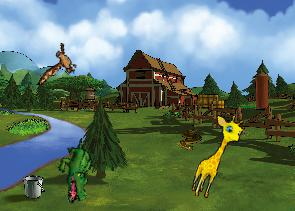crocodile: (50, 137, 103, 205)
eagle: (36, 39, 81, 92)
giraffe: (188, 109, 247, 204)
